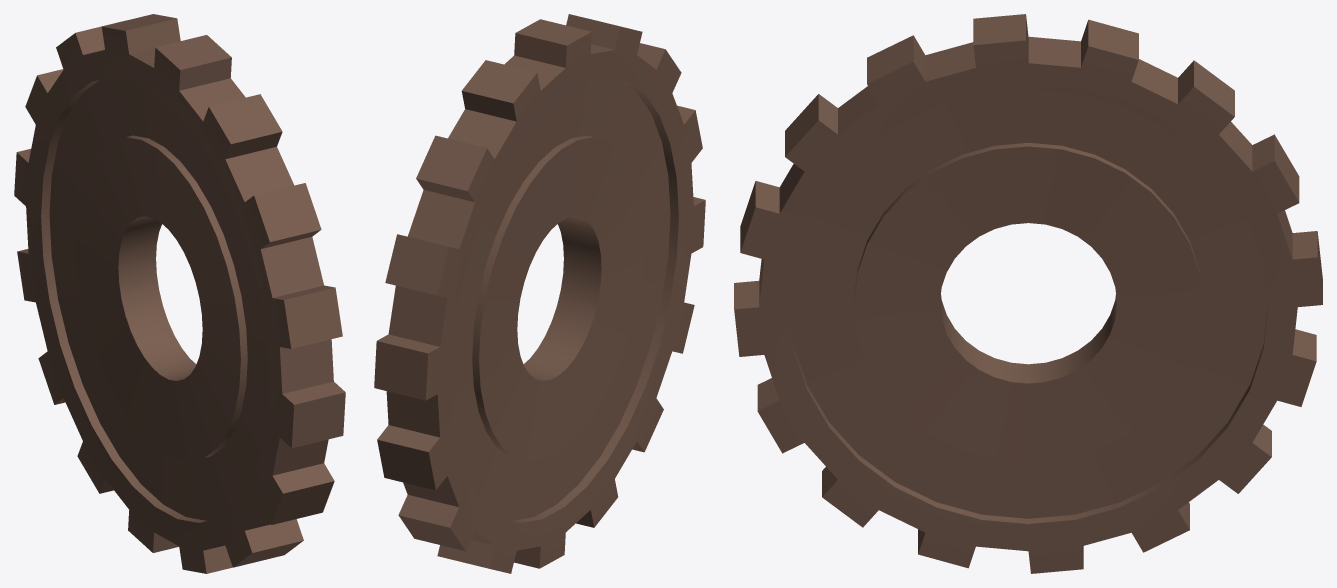
File: petit rouage.fbx
3 views of the same model, side by side, from view 1: azimuth 30°, elevation 25°; view 2: azimuth 150°, elevation 25°; view 3: azimuth 270°, elevation 25° (orthographic). The views are drawn at different scales.
Parts seen in each view (by area): view 1: Cylinder.004; view 2: Cylinder.004; view 3: Cylinder.004.
Part boxes in pixels (x1,y1,x2,y2): Cylinder.004: (14, 14, 345, 573); Cylinder.004: (374, 14, 705, 573); Cylinder.004: (734, 14, 1322, 573).
Size of the model in its own units: 29.97 by 281 by 281.
